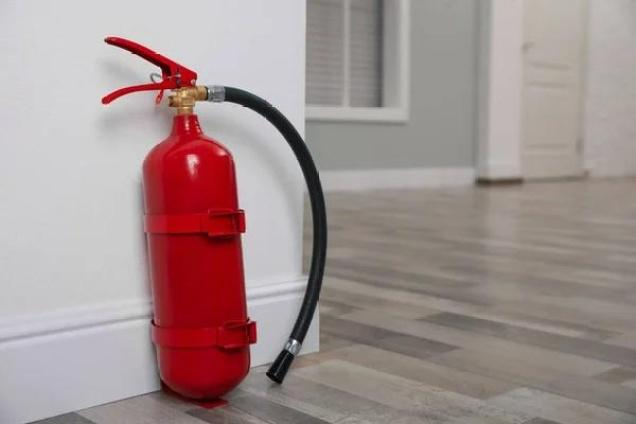APAR: (100, 35, 251, 400)
